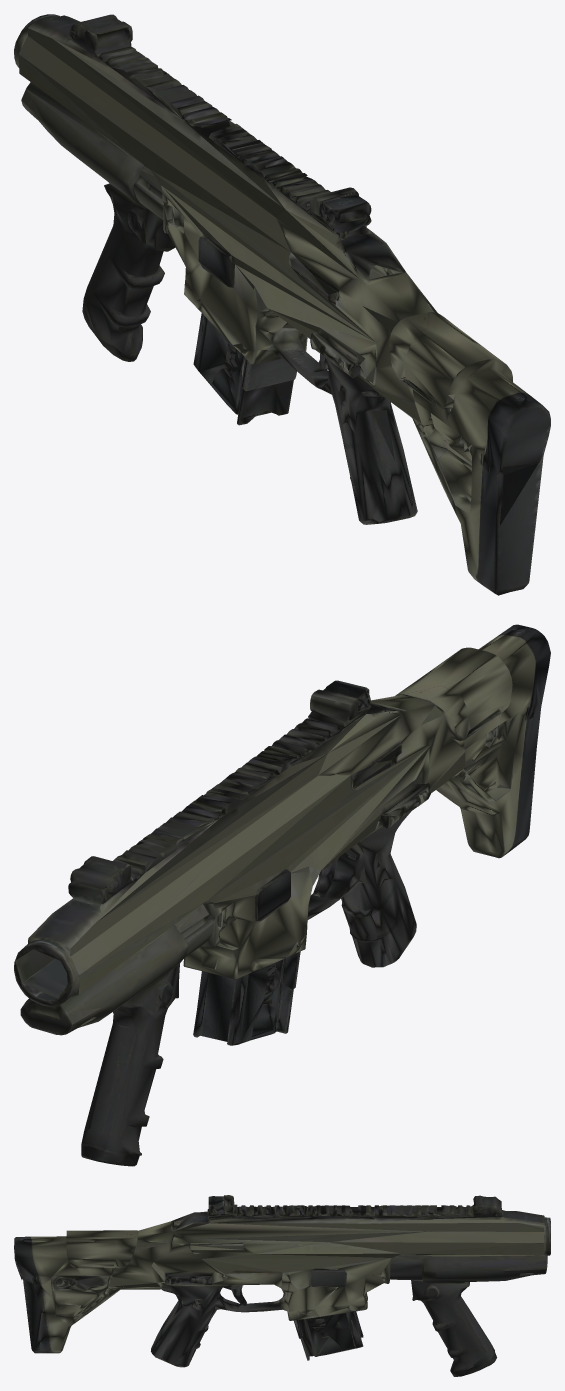
File: smg_fennec.glb
3 renders of one model, top to bottom at view 1: azimuth 30°, elevation 25°; view 2: azimuth 150°, elevation 25°; view 3: azimuth 270°, elevation 25°, orthographic. The views are drawn at different scales.
Visible parts, largest first — view 1: smg_fennec; view 2: smg_fennec; view 3: smg_fennec.
Boxes of the visible parts, x1,y1,x2,y2 form: smg_fennec: [14, 14, 550, 595]; smg_fennec: [14, 624, 550, 1166]; smg_fennec: [14, 1195, 550, 1376].
Size of the model in its own units: 0.0504 by 0.1844 by 0.51.
1 material, 1 textured.
